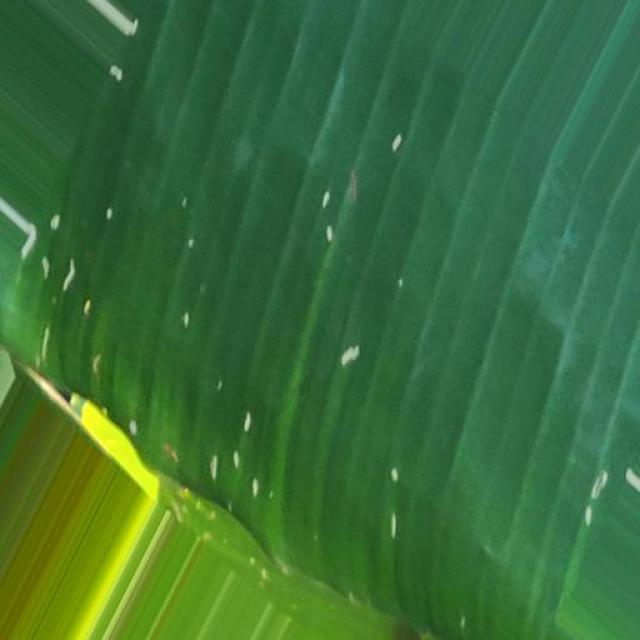Black_rot: (7, 79, 640, 585)
